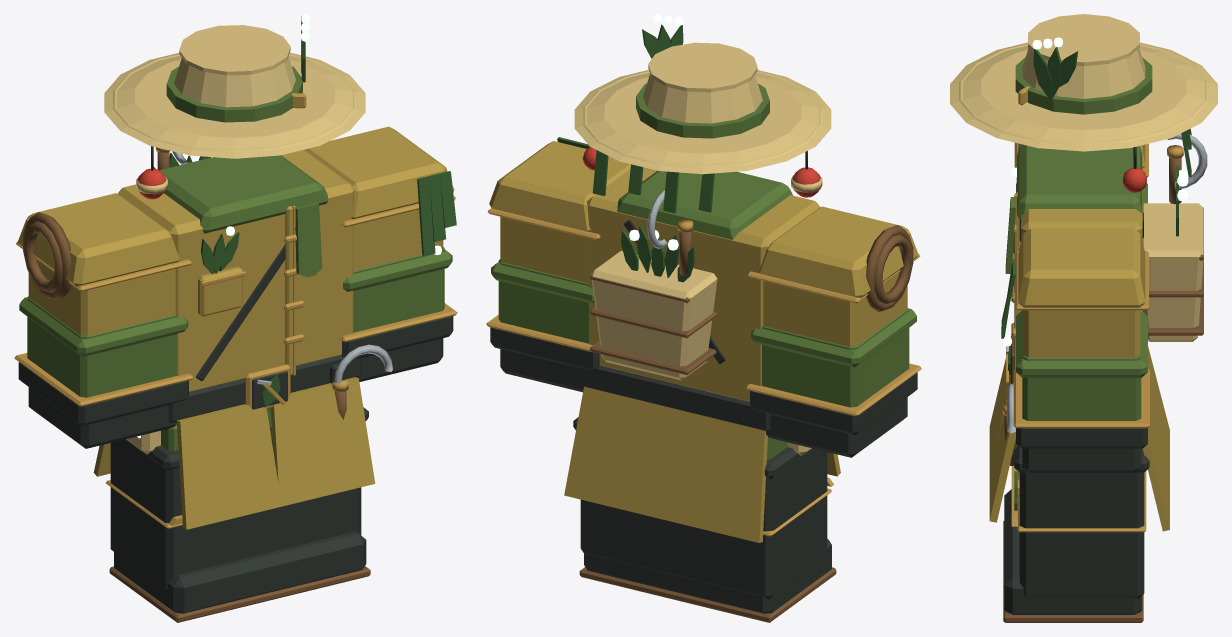
Rendered from Kelpfarmer.fbx.
3 renders of one model, left to right at view 1: azimuth 30°, elevation 25°; view 2: azimuth 150°, elevation 25°; view 3: azimuth 270°, elevation 25°, orthographic. The views are drawn at different scales.
Parts seen in each view (by area): view 1: Armor_Kelpfarmer_Chest_Oilskin_Common, Armor_Kelpfarmer_Helm_Straw_Common, Armor_Kelpfarmer_Belt_OilskinSway_Common, Armor_Kelpfarmer_PauldronR_Oilskin_Common, Armor_Kelpfarmer_PauldronL_Oilskin_Common, Armor_Kelpfarmer_GreaveR_Rubber_Common, Armor_Kelpfarmer_BracerR_Moss_Common, Armor_Kelpfarmer_Chest_Moss_Common, Armor_Kelpfarmer_BracerL_Moss_Common, Armor_Kelpfarmer_BootR_Rubber_Common, Armor_Kelpfarmer_GreaveL_Rubber_Common, Armor_Kelpfarmer_BootL_Rubber_Common (+22 smaller); view 2: Armor_Kelpfarmer_Belt_OilskinSway_Common, Armor_Kelpfarmer_Helm_Straw_Common, Armor_Kelpfarmer_Chest_Oilskin_Common, Armor_Kelpfarmer_PauldronR_Oilskin_Common, Armor_Kelpfarmer_PauldronL_Oilskin_Common, Armor_Kelpfarmer_GreaveR_Rubber_Common, Armor_Kelpfarmer_Chest_Straw_Rare, Armor_Kelpfarmer_BracerR_Moss_Common, Armor_Kelpfarmer_Chest_Moss_Common, Armor_Kelpfarmer_BracerL_Moss_Common, Armor_Kelpfarmer_GreaveL_Rubber_Common, Armor_Kelpfarmer_Belt_Rubber_Common (+20 smaller); view 3: Armor_Kelpfarmer_Helm_Straw_Common, Armor_Kelpfarmer_PauldronL_Oilskin_Common, Armor_Kelpfarmer_GreaveL_Rubber_Common, Armor_Kelpfarmer_BracerL_Moss_Common, Armor_Kelpfarmer_Chest_Moss_Common, Armor_Kelpfarmer_Chest_Straw_Rare, Armor_Kelpfarmer_Belt_OilskinSway_Common, Armor_Kelpfarmer_BootL_Rubber_Common, Armor_Kelpfarmer_ThighL_Rubber_Common, Armor_Kelpfarmer_GloveL_Rubber_Common, Armor_Kelpfarmer_BracerL_Rubber_Common, Armor_Kelpfarmer_Chest_Oilskin_Common (+14 smaller).
Part boxes in pixels (x1,y1,x2,y2): Armor_Kelpfarmer_Chest_Oilskin_Common: [118, 150, 354, 391]; Armor_Kelpfarmer_Helm_Straw_Common: [104, 25, 365, 158]; Armor_Kelpfarmer_Belt_OilskinSway_Common: [93, 377, 375, 529]; Armor_Kelpfarmer_PauldronR_Oilskin_Common: [17, 193, 179, 335]; Armor_Kelpfarmer_PauldronL_Oilskin_Common: [304, 126, 454, 270]; Armor_Kelpfarmer_GreaveR_Rubber_Common: [110, 453, 269, 589]; Armor_Kelpfarmer_BracerR_Moss_Common: [19, 296, 188, 397]; Armor_Kelpfarmer_Chest_Moss_Common: [159, 155, 328, 233]; Armor_Kelpfarmer_BracerL_Moss_Common: [343, 247, 452, 332]; Armor_Kelpfarmer_BootR_Rubber_Common: [114, 552, 273, 613]; Armor_Kelpfarmer_GreaveL_Rubber_Common: [263, 487, 361, 552]; Armor_Kelpfarmer_BootL_Rubber_Common: [266, 531, 366, 591]; Armor_Kelpfarmer_Belt_OilskinSway_Common: [564, 386, 840, 542]; Armor_Kelpfarmer_Helm_Straw_Common: [574, 42, 831, 174]; Armor_Kelpfarmer_Chest_Oilskin_Common: [587, 167, 819, 401]; Armor_Kelpfarmer_PauldronR_Oilskin_Common: [759, 206, 918, 346]; Armor_Kelpfarmer_PauldronL_Oilskin_Common: [489, 141, 630, 282]; Armor_Kelpfarmer_GreaveR_Rubber_Common: [670, 461, 827, 599]; Armor_Kelpfarmer_Chest_Straw_Rare: [591, 250, 717, 380]; Armor_Kelpfarmer_BracerR_Moss_Common: [751, 308, 916, 407]; Armor_Kelpfarmer_Chest_Moss_Common: [617, 170, 792, 239]; Armor_Kelpfarmer_BracerL_Moss_Common: [491, 259, 594, 343]; Armor_Kelpfarmer_GreaveL_Rubber_Common: [580, 499, 677, 574]; Armor_Kelpfarmer_Belt_Rubber_Common: [580, 365, 770, 432]; Armor_Kelpfarmer_Helm_Straw_Common: [950, 14, 1217, 151]; Armor_Kelpfarmer_PauldronL_Oilskin_Common: [1018, 228, 1145, 357]; Armor_Kelpfarmer_GreaveL_Rubber_Common: [1019, 494, 1144, 598]; Armor_Kelpfarmer_BracerL_Moss_Common: [1016, 311, 1147, 420]; Armor_Kelpfarmer_Chest_Moss_Common: [1017, 144, 1142, 219]; Armor_Kelpfarmer_Chest_Straw_Rare: [1142, 203, 1203, 341]; Armor_Kelpfarmer_Belt_OilskinSway_Common: [989, 336, 1169, 531]; Armor_Kelpfarmer_BootL_Rubber_Common: [1004, 533, 1142, 614]; Armor_Kelpfarmer_ThighL_Rubber_Common: [1014, 446, 1149, 525]; Armor_Kelpfarmer_GloveL_Rubber_Common: [1022, 448, 1141, 472]; Armor_Kelpfarmer_BracerL_Rubber_Common: [1016, 428, 1147, 448]; Armor_Kelpfarmer_Chest_Oilskin_Common: [1012, 144, 1142, 313].
Size of the model in its own units: 432 by 588 by 252.
